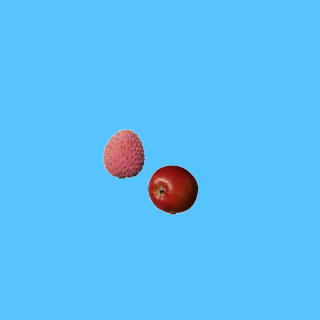Apple Braeburn: (147, 164, 197, 214)
Lychee: (98, 128, 148, 178)
